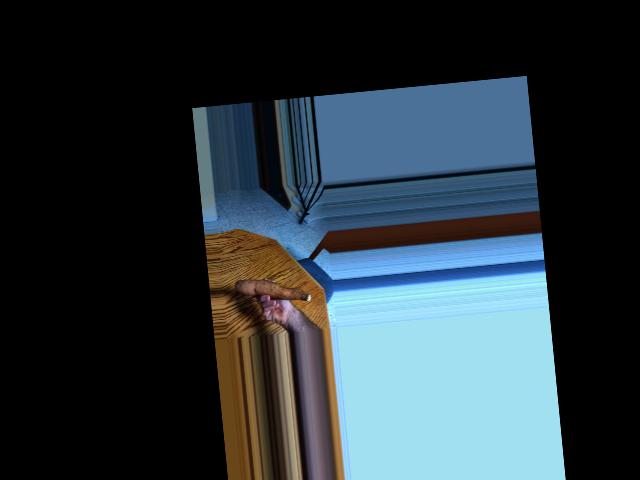sweet_potato: (237, 268, 309, 309)
